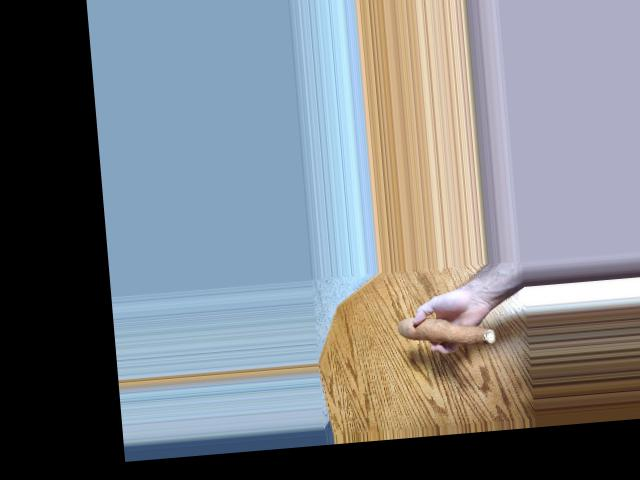sweet_potato: (393, 314, 503, 353)
